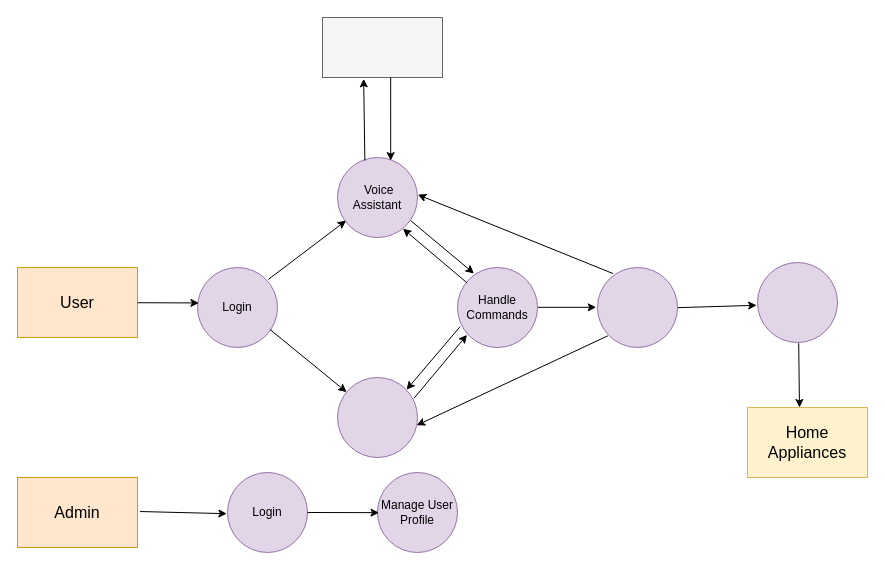
This 885x570 diagram has some shape labels left out. The centre of each missing label's shape, as x and y in pixels:
"Broadcast update" goes at [637,307].
"ESP32 Controller" goes at [797,302].
"Google Voice API" goes at [382,47].
"Web Dashboard" goes at [377,417].
